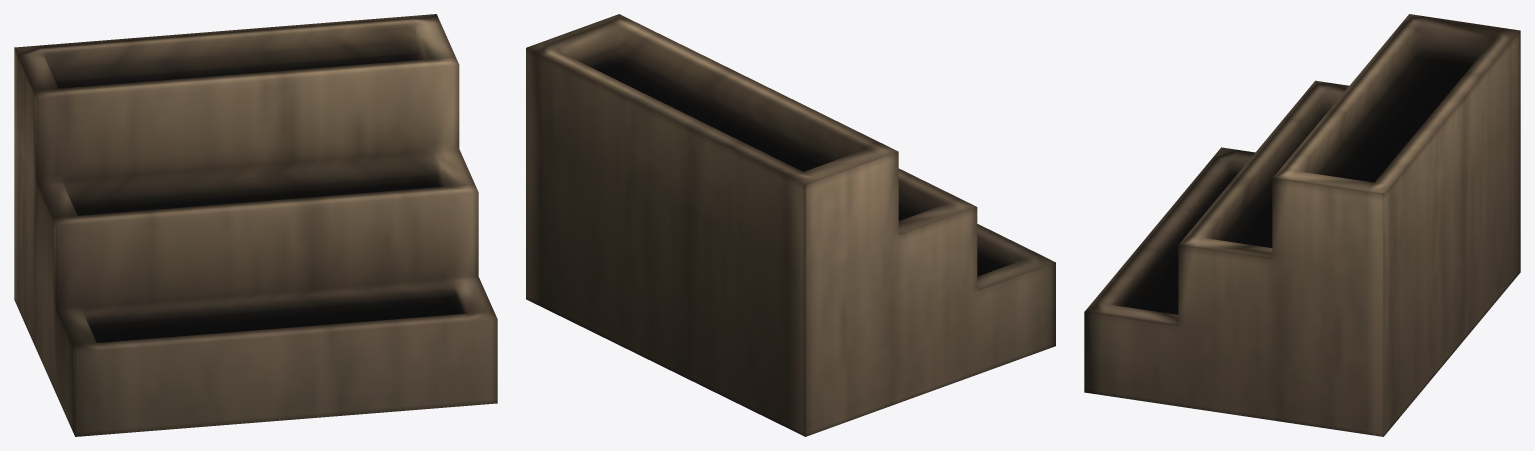
Rendered from potion rack.fbx.
The picture shows the model from 3 angles, left to right: view 1: azimuth 30°, elevation 25°; view 2: azimuth 150°, elevation 25°; view 3: azimuth 270°, elevation 25°; orthographic projection. The views are drawn at different scales.
Visible parts, largest first — view 1: Magic_shelf_2; view 2: Magic_shelf_2; view 3: Magic_shelf_2.
Boxes of the visible parts, x1,y1,x2,y2 form: Magic_shelf_2: [14, 14, 497, 436]; Magic_shelf_2: [526, 14, 1055, 436]; Magic_shelf_2: [1084, 14, 1520, 436].
Bounding box in the file's own units: 1.85 × 0.9965 × 1.63.
